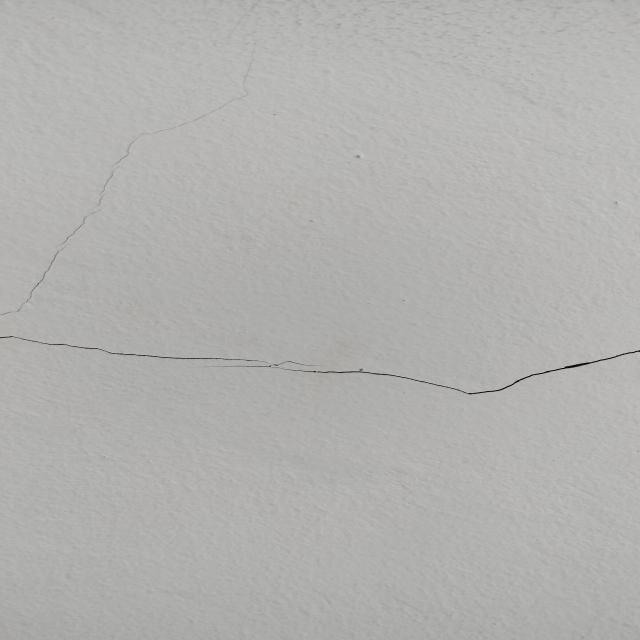Crack: (3, 330, 640, 397)
